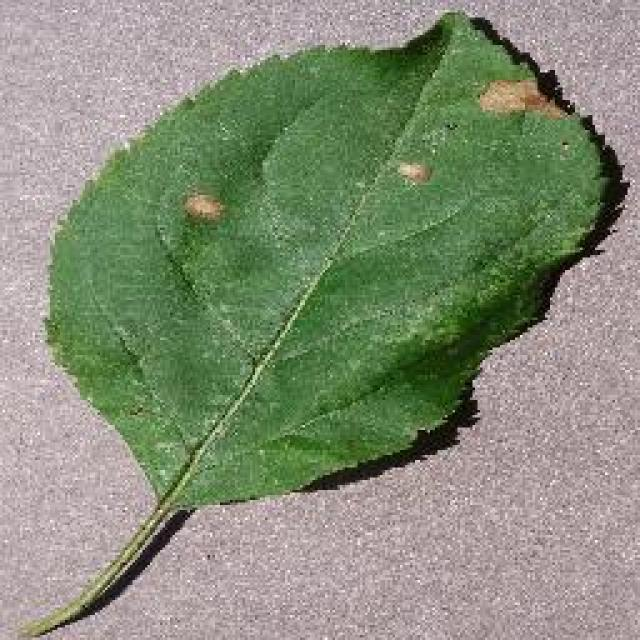Apple___Black_rot: (41, 7, 612, 517)
